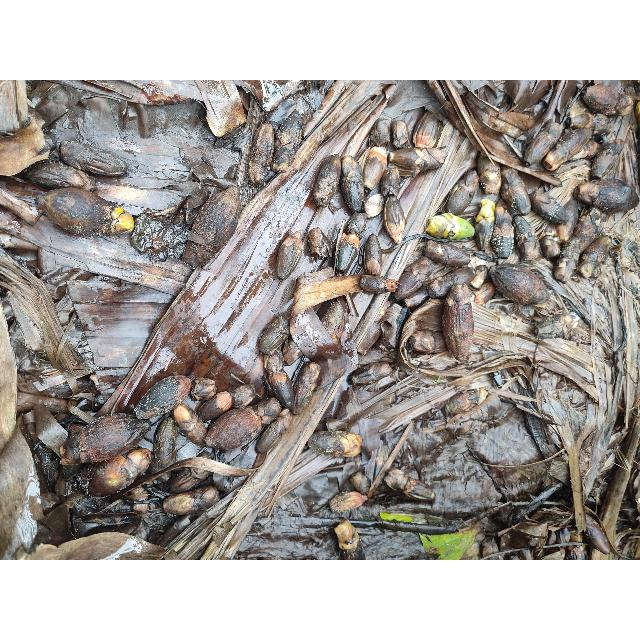damaged: (188, 183, 240, 264), (133, 374, 193, 420), (57, 140, 127, 177), (290, 305, 330, 359), (26, 162, 96, 192), (276, 228, 308, 282), (255, 409, 292, 455), (248, 123, 274, 185), (394, 146, 444, 178), (340, 154, 364, 213), (446, 172, 478, 216), (151, 418, 177, 472), (292, 363, 320, 412), (589, 139, 623, 179), (533, 310, 581, 338), (314, 155, 338, 209), (398, 258, 432, 296), (259, 312, 291, 352), (362, 146, 388, 194), (424, 242, 472, 268), (267, 368, 295, 412), (442, 389, 483, 417), (198, 391, 236, 421), (383, 193, 405, 244), (274, 112, 302, 152), (322, 299, 346, 343), (336, 230, 358, 278), (477, 152, 501, 195), (362, 232, 382, 280), (352, 362, 392, 386), (414, 112, 438, 148), (406, 330, 442, 354), (270, 144, 294, 178), (344, 212, 368, 242), (307, 227, 329, 259), (369, 118, 391, 150), (359, 275, 391, 295), (380, 168, 400, 200), (390, 118, 410, 150), (364, 192, 384, 220), (349, 470, 371, 494)
